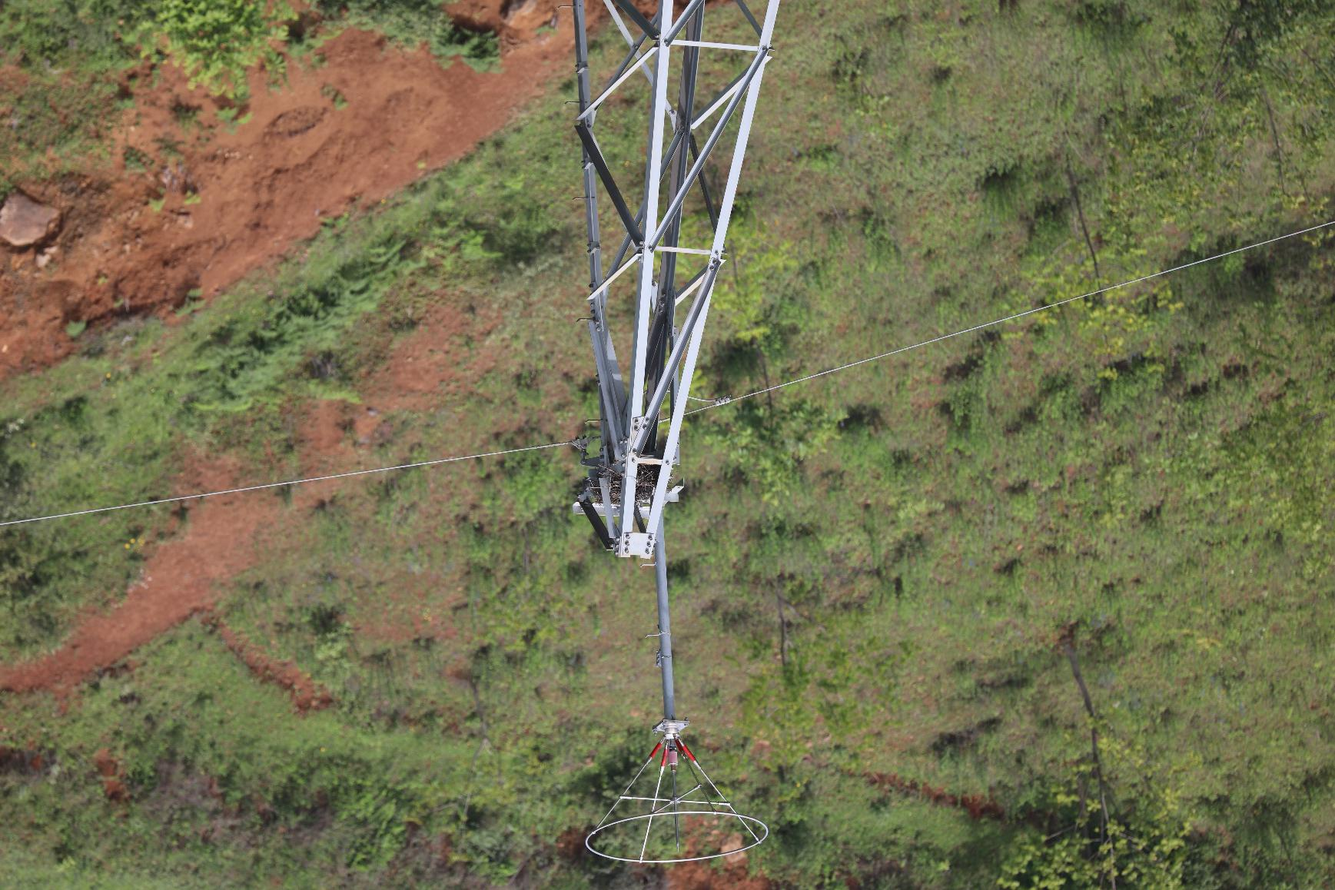nest: (587, 463, 659, 508)
